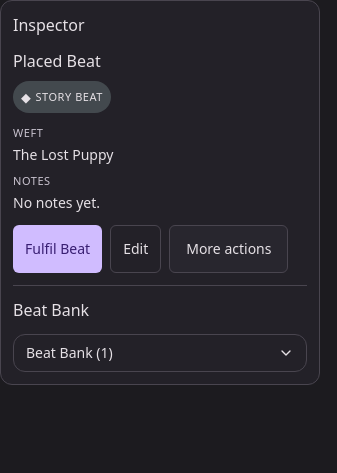
it: LoomRail › shows action matrix for a placed beat: Fulfil Beat + Edit + overflow with four items
Expected: the button "Fulfil Beat" is shown, [13,225,102,273]
Expected: the button "Edit" is shown, [110,225,161,273]
Click the button "More actions". click: (229, 249)
box: [169,225,288,273]
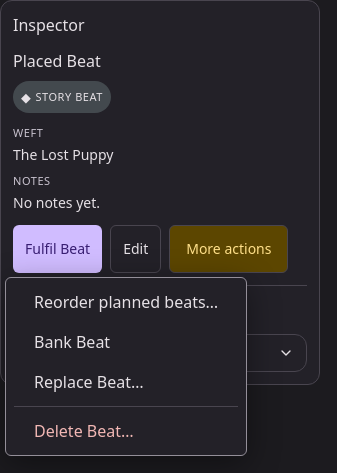
Expected: the number of menu items is 4, [34,291,218,313]; [34,331,110,353]; [34,371,144,393]; [34,420,134,442]
Expected: the menu item "Reorder planned beats…" is shown, [34,291,218,313]
Expected: the menu item "Bank Beat" is shown, [34,331,110,353]
